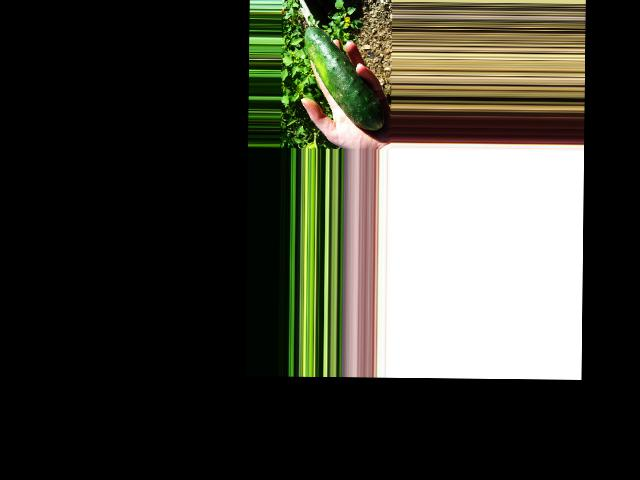cucumber: (303, 25, 385, 129)
